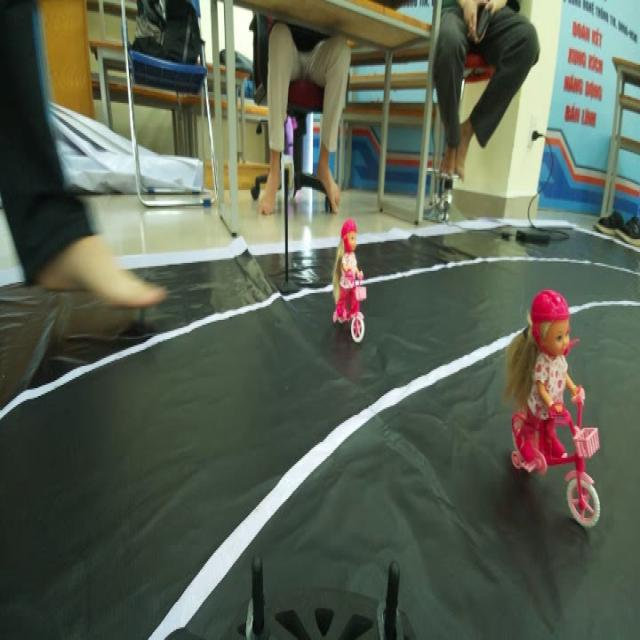pedestrian: (498, 276, 607, 536), (317, 203, 369, 351)
